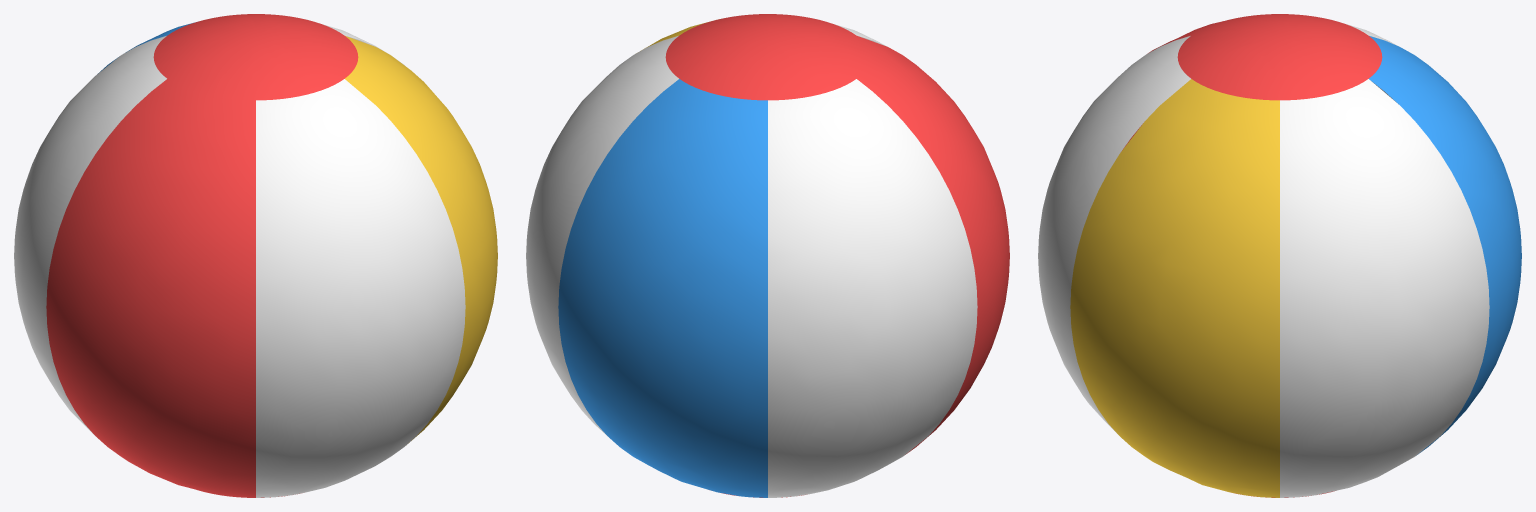
The model's file is ball.glb.
3 views of the same model, side by side, from view 1: azimuth 30°, elevation 25°; view 2: azimuth 150°, elevation 25°; view 3: azimuth 270°, elevation 25° (orthographic).
Visible parts, largest first — view 1: ball; view 2: ball; view 3: ball.
Part boxes in pixels (left/top/right/bottom): ball: left=14, top=14, right=497, bottom=497; ball: left=526, top=14, right=1009, bottom=497; ball: left=1038, top=14, right=1521, bottom=497.
Size of the model in its own units: 0.22 by 0.22 by 0.22.
